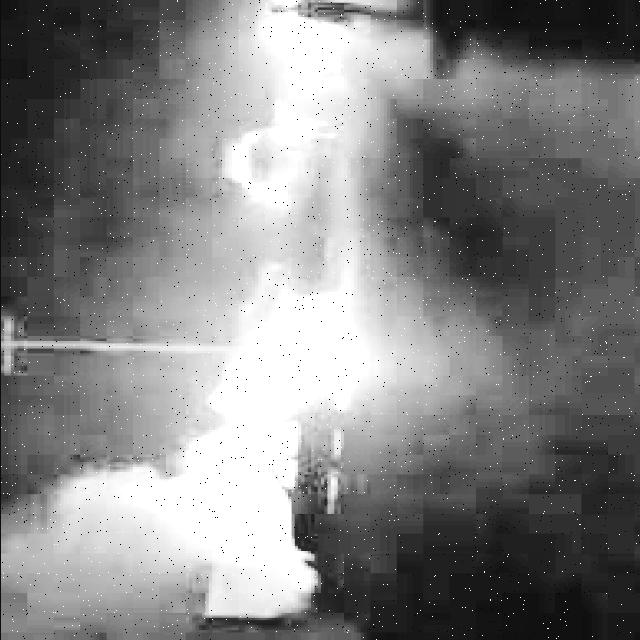api: (189, 320, 357, 545)
